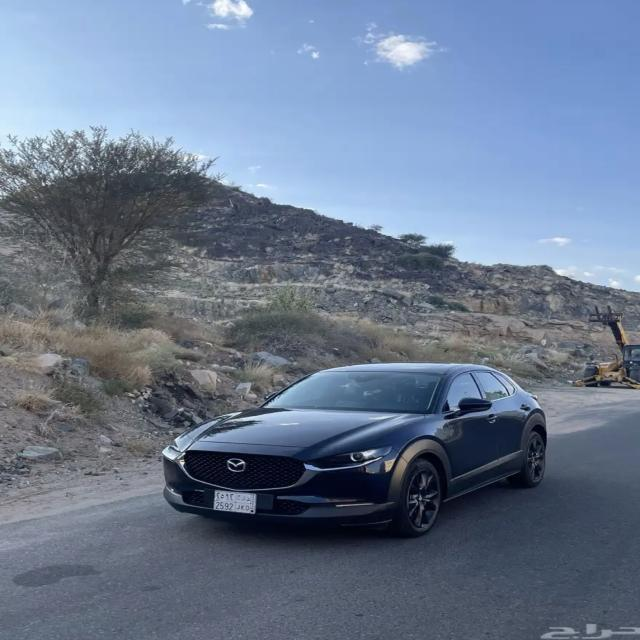license_plate: (215, 490, 258, 514)
